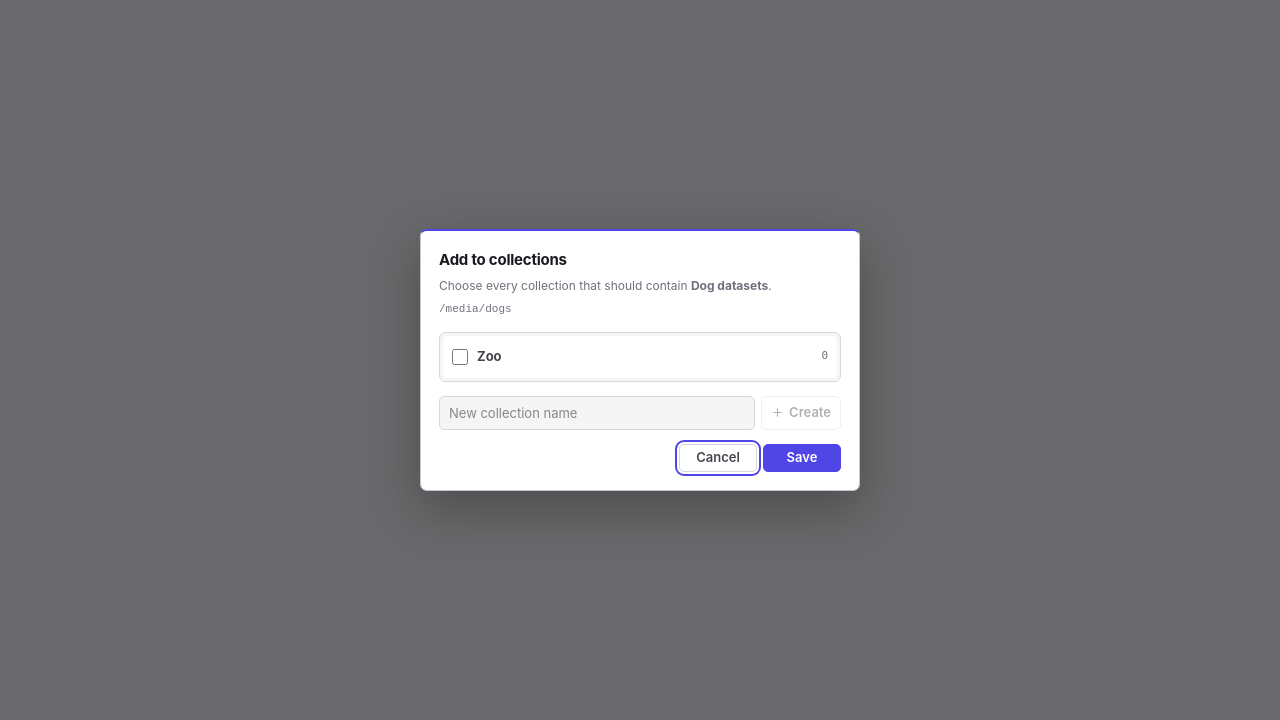
FolderCollectionsDialog › keeps inline collection creation in locale-aware server order
The width and height of the screenshot is (1280, 720).
Expected: the checkbox labelled "Zoo 0" is shown, [452, 349, 468, 365]
Type "ábaco" into the field labelled "New collection name" at (597, 413), box [439, 396, 755, 430]
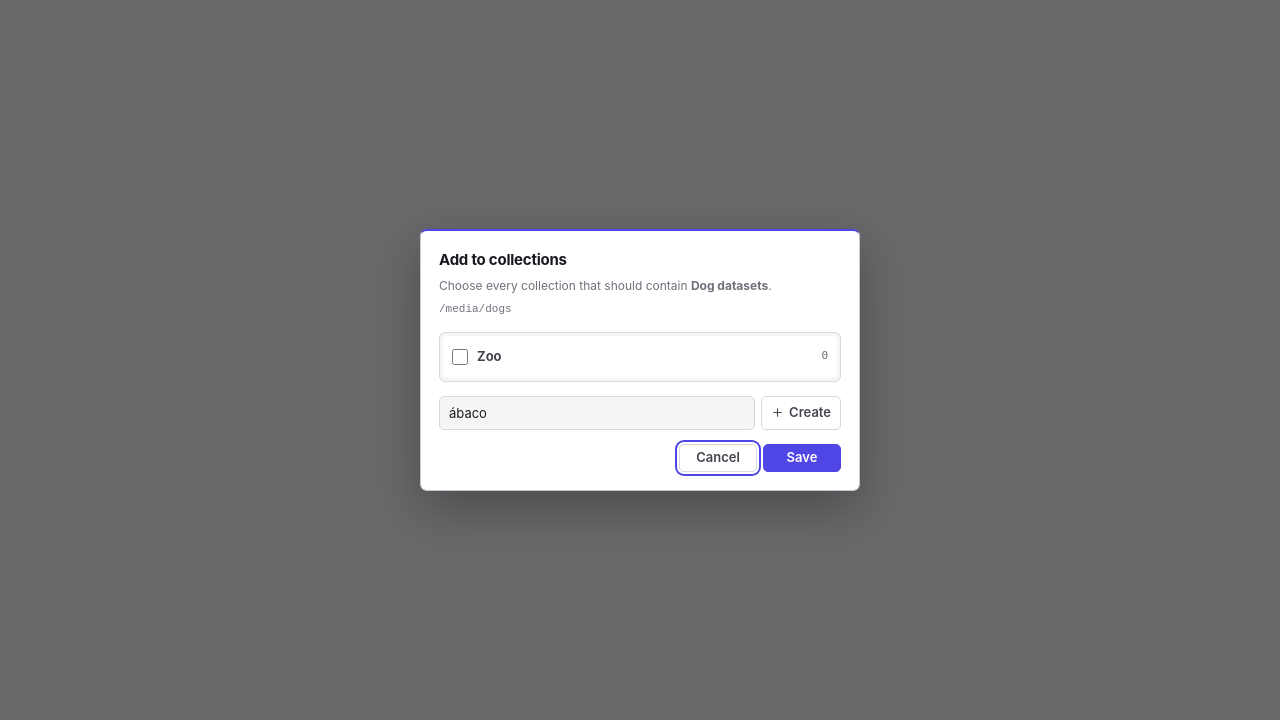
Click the button "Create" at (801, 413), box [761, 396, 841, 430]
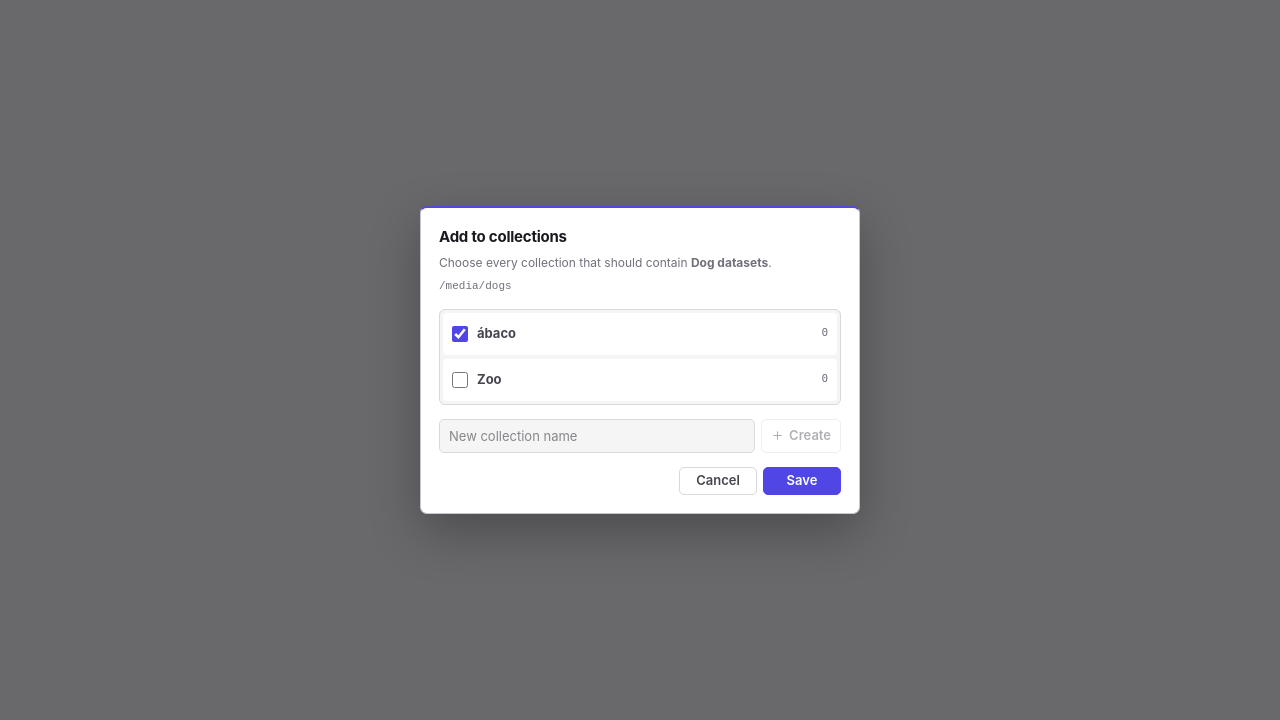
Expected: the checkbox labelled "ábaco 0" is shown, [452, 326, 468, 342]
